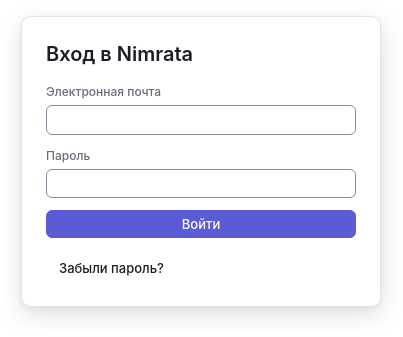
loginScreen_hasForgotPasswordLink_thatOpensRequestForm
Click the button "Забыли пароль?" at (112, 268), box [46,254,177,282]
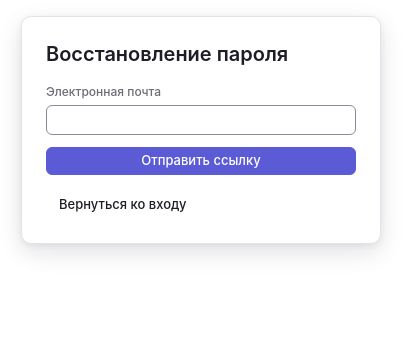
Result: the heading "Восстановление пароля" is shown at [46,42,288,66]
Result: the label labelled "Пароль" is gone
